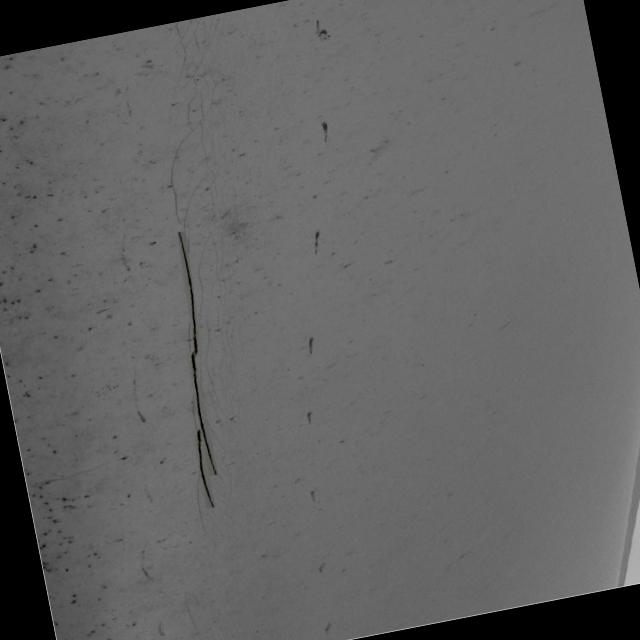crack: (149, 232, 242, 510)
